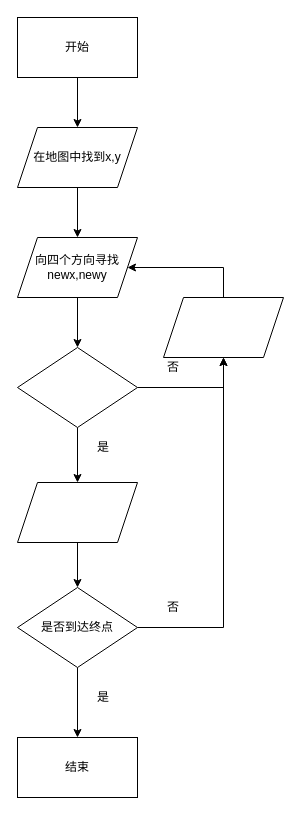
The diagram is 301 pixels wide and 815 high, and some of its shapes have lost their labels. The centre of each missing label's shape, as x and y in pixels:
dfs当前节点: (x=77, y=512)
是否是可达的路径: (x=77, y=387)
返回上一个结点: (x=223, y=327)
